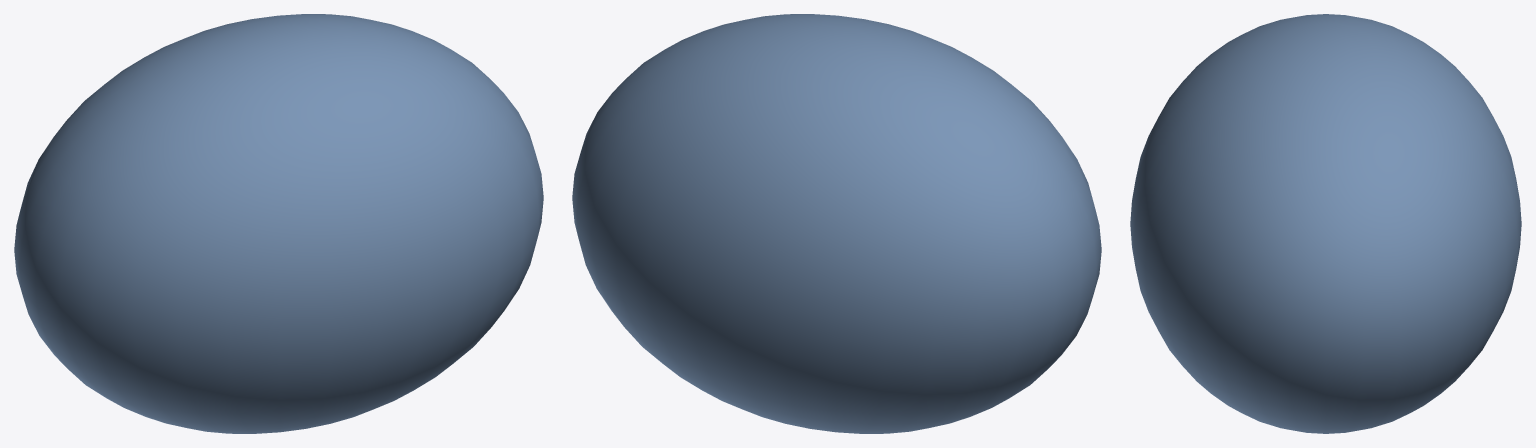
Rendered from chef-fizz.glb.
The picture shows the model from 3 angles, left to right: view 1: azimuth 30°, elevation 25°; view 2: azimuth 150°, elevation 25°; view 3: azimuth 270°, elevation 25°; orthographic projection. The views are drawn at different scales.
Visible parts, largest first — view 1: HipsAndLegs; view 2: HipsAndLegs; view 3: HipsAndLegs.
Part boxes in pixels (<box>): HipsAndLegs: <box>14,14,543,433</box>; HipsAndLegs: <box>572,14,1101,433</box>; HipsAndLegs: <box>1130,14,1521,433</box>.
Size of the model in its own units: 0.3 by 0.22 by 0.22.
